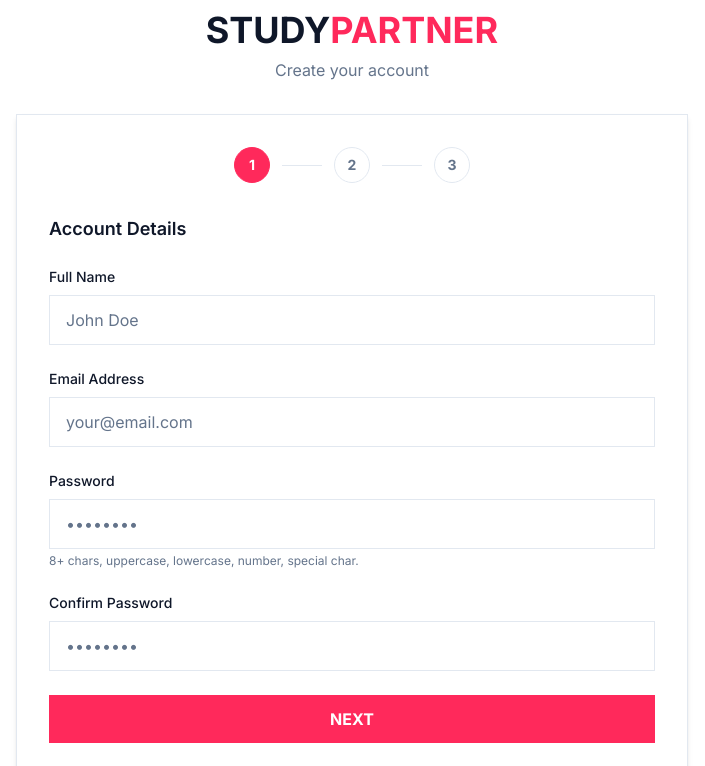
Scenario: Register Page › should validate password match
The image size is (705, 766).
Type "Test User" into the field labelled "Full Name". click: (352, 320)
box: [49,295,655,345]
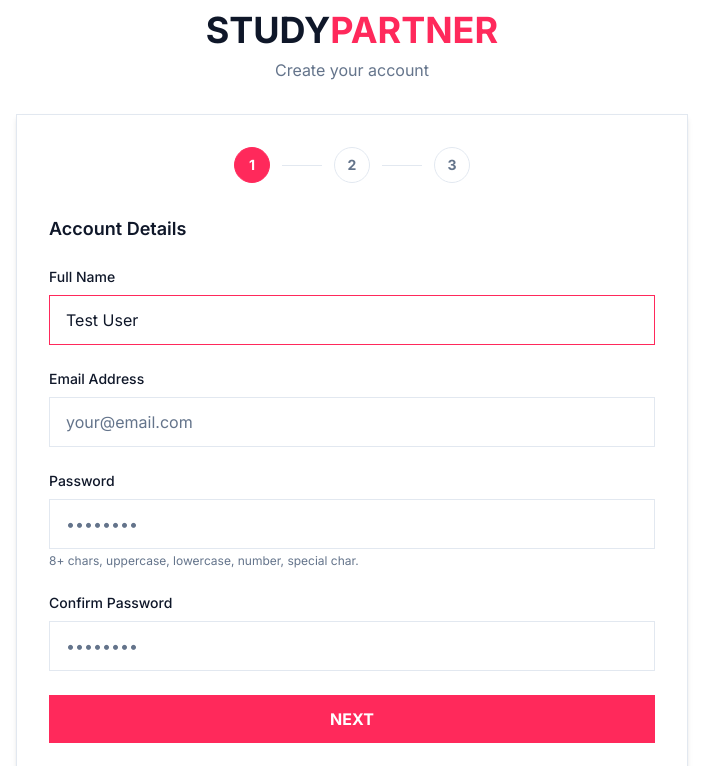
Type "test@example.com" into the field labelled "Email Address". click: (352, 422)
box: [49,397,655,447]
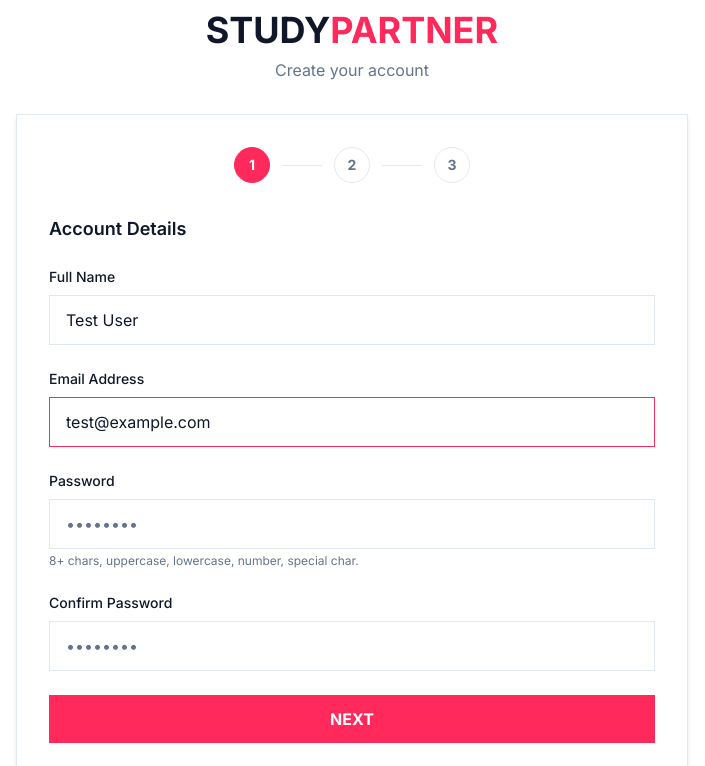
Type "Password123!" into the password field labelled "Password". click: (352, 524)
box: [49,499,655,549]
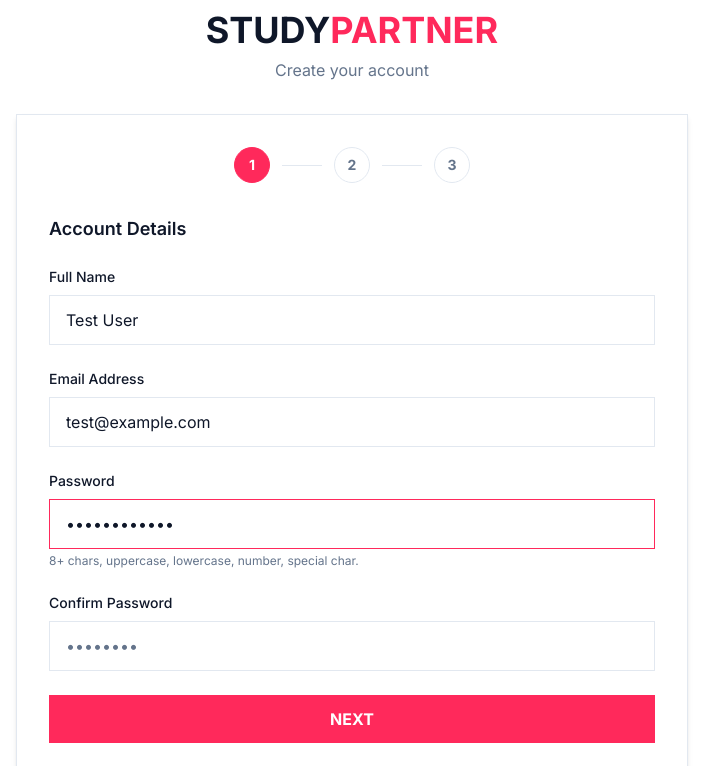
Type "DifferentPass!" into the password field labelled "Confirm Password". click: (352, 646)
box: [49,621,655,671]
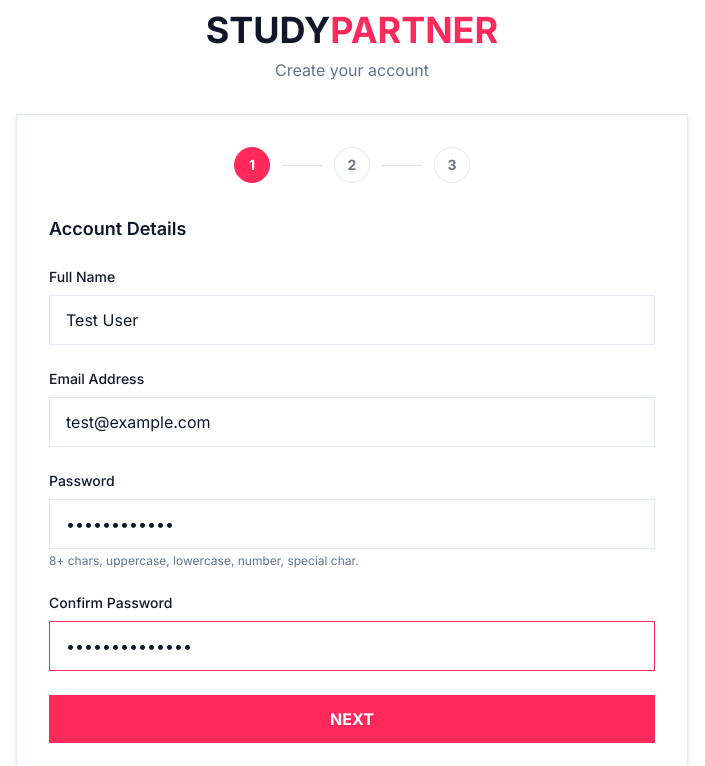
Click the button "NEXT". click: (352, 719)
box: [49,695,655,743]
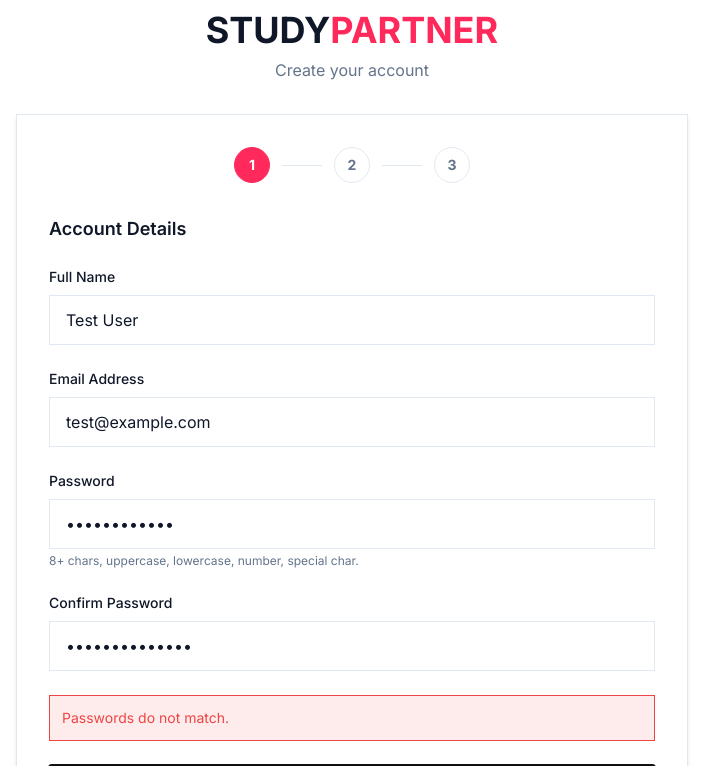
expect the text "Passwords do not match." is shown: met, box [49,695,655,741]
